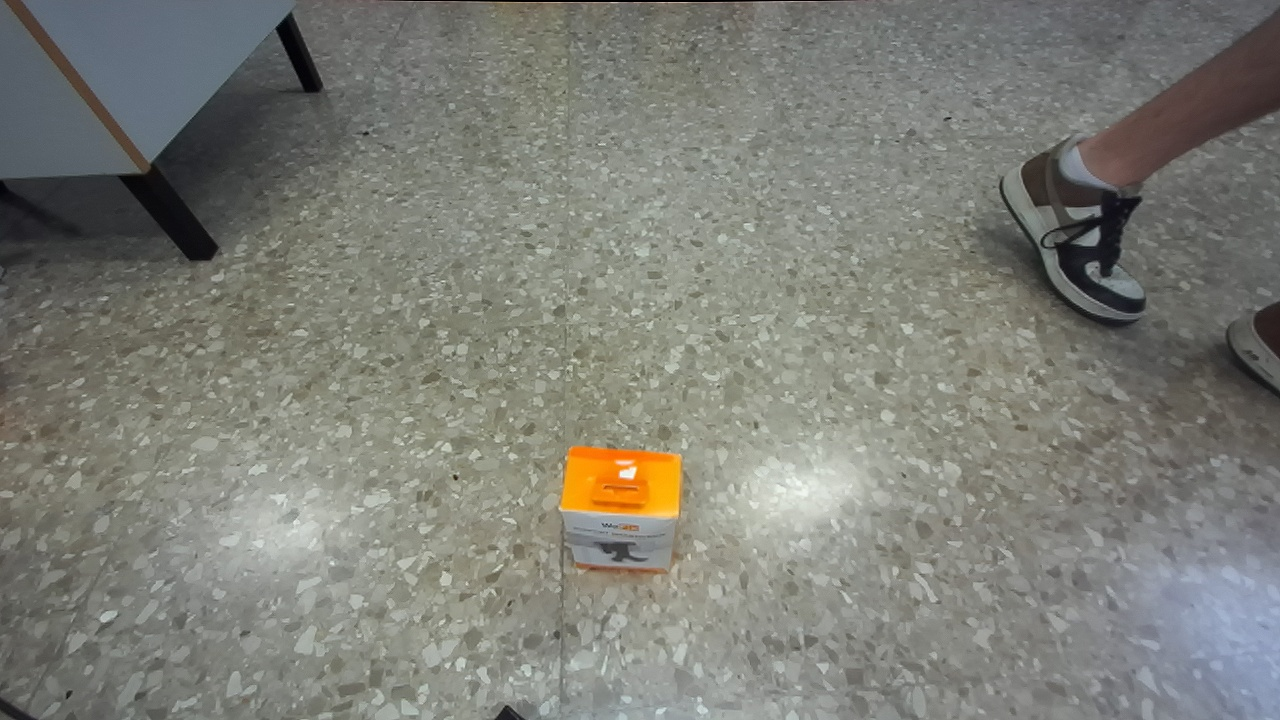caja_pcb: (560, 447, 682, 572)
